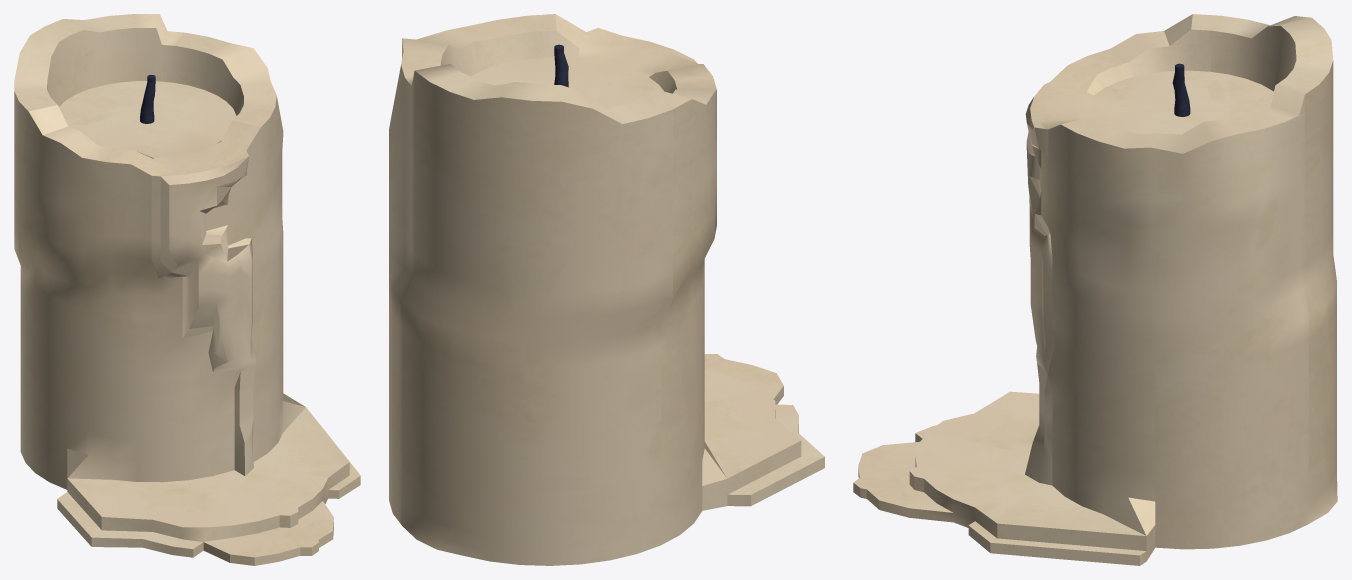
File: SV_tableCandle.fbx
3 renders of one model, left to right at view 1: azimuth 30°, elevation 25°; view 2: azimuth 150°, elevation 25°; view 3: azimuth 270°, elevation 25°, orthographic. The views are drawn at different scales.
Visible parts, largest first — view 1: CandleModAsset_high; view 2: CandleModAsset_high; view 3: CandleModAsset_high.
Boxes of the visible parts, x1=… form: CandleModAsset_high: x1=14, y1=14, x2=360, y2=565; CandleModAsset_high: x1=389, y1=14, x2=824, y2=565; CandleModAsset_high: x1=853, y1=14, x2=1337, y2=565.
Bounding box in the file's own units: 8.79 × 11.33 × 11.46.
Materials: 1 (1 with a texture image).
